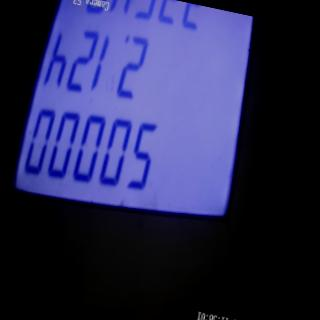screen: (0, 0, 273, 255)
